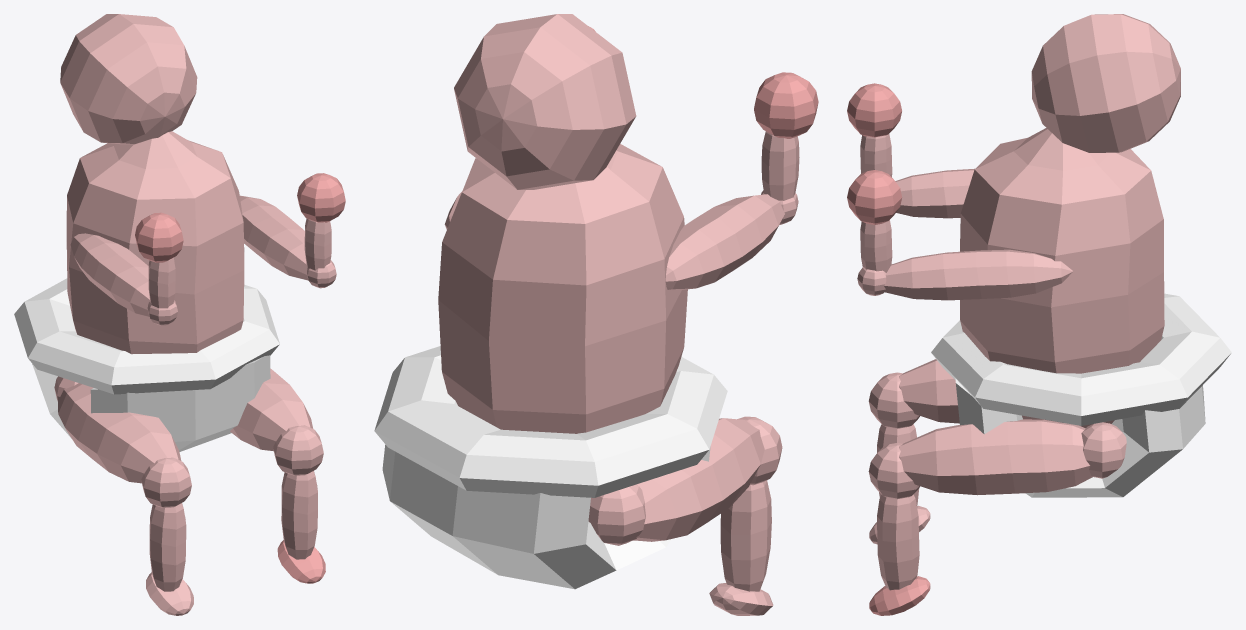
The model's file is Baby.fbx.
The picture shows the model from 3 angles, left to right: view 1: azimuth 30°, elevation 25°; view 2: azimuth 150°, elevation 25°; view 3: azimuth 270°, elevation 25°; orthographic projection. The views are drawn at different scales.
Visible parts, largest first — view 1: M_Baby; view 2: M_Baby; view 3: M_Baby.
Part boxes in pixels (bbox=[...]): M_Baby: bbox=[14, 14, 345, 615]; M_Baby: bbox=[374, 14, 818, 615]; M_Baby: bbox=[847, 14, 1231, 615].
Bounding box in the file's own units: 114 × 232 × 146.
